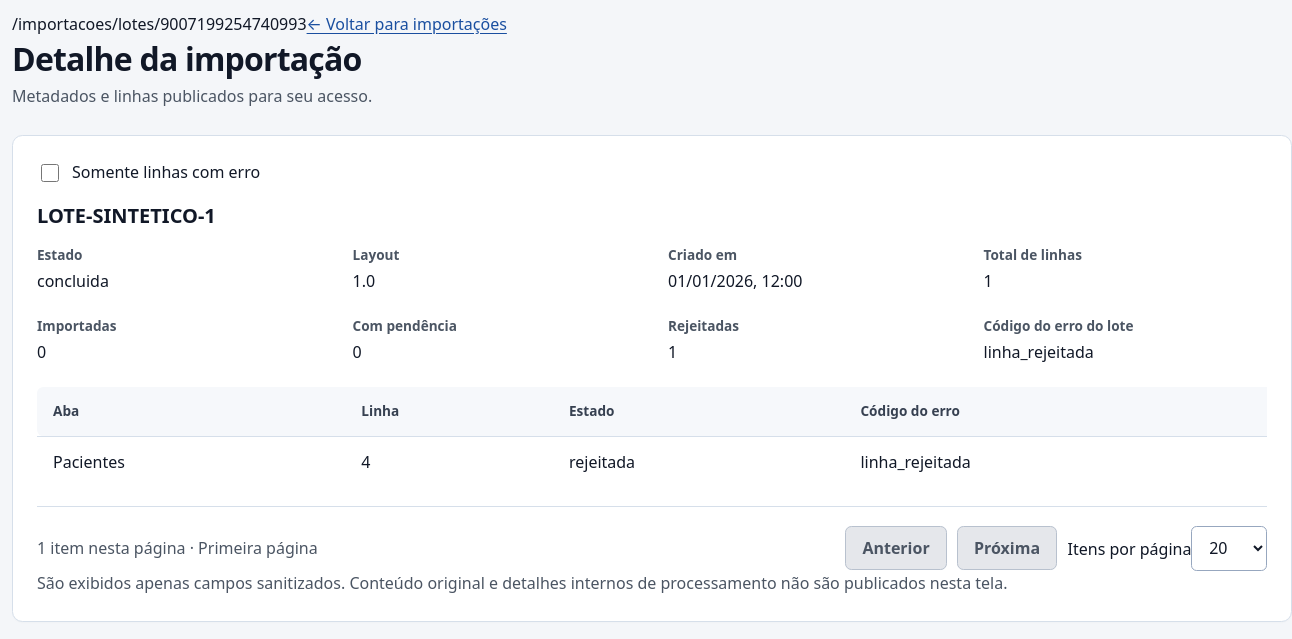
it: consulta sanitizada de importações › exibe apenas campos publicados, aplica filtro e não mostra conteúdo bruto
Expected: the heading "LOTE-SINTETICO-1" is shown, [37,202,216,229]
Expected: the text "linha_rejeitada" is shown 2 times, [984,341,1094,363]; [844,437,1267,490]
Click the checkbox labelled "Somente linhas com erro" at (50, 173), box [41,164,59,182]
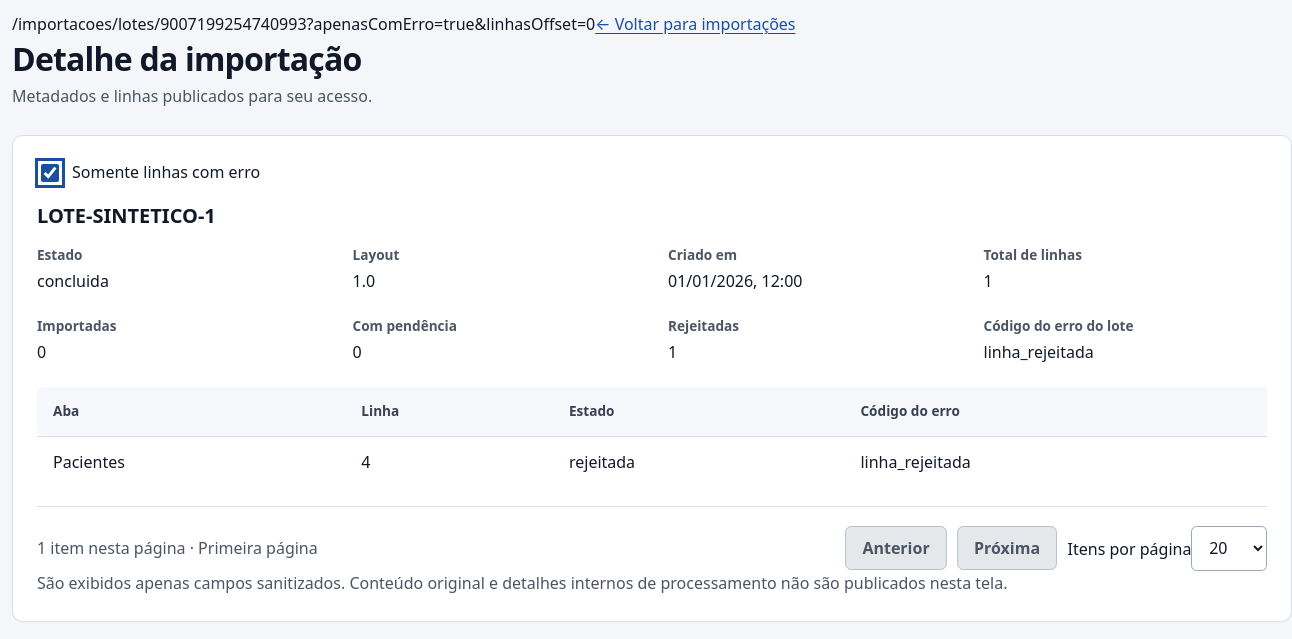
Expected: the text with test id "location" shows "apenasComErro=true", [307,13,595,35]
